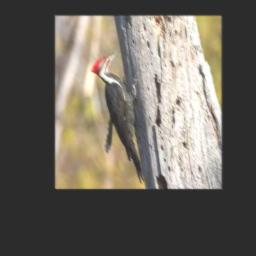Woodpecker: (91, 48, 144, 183)
